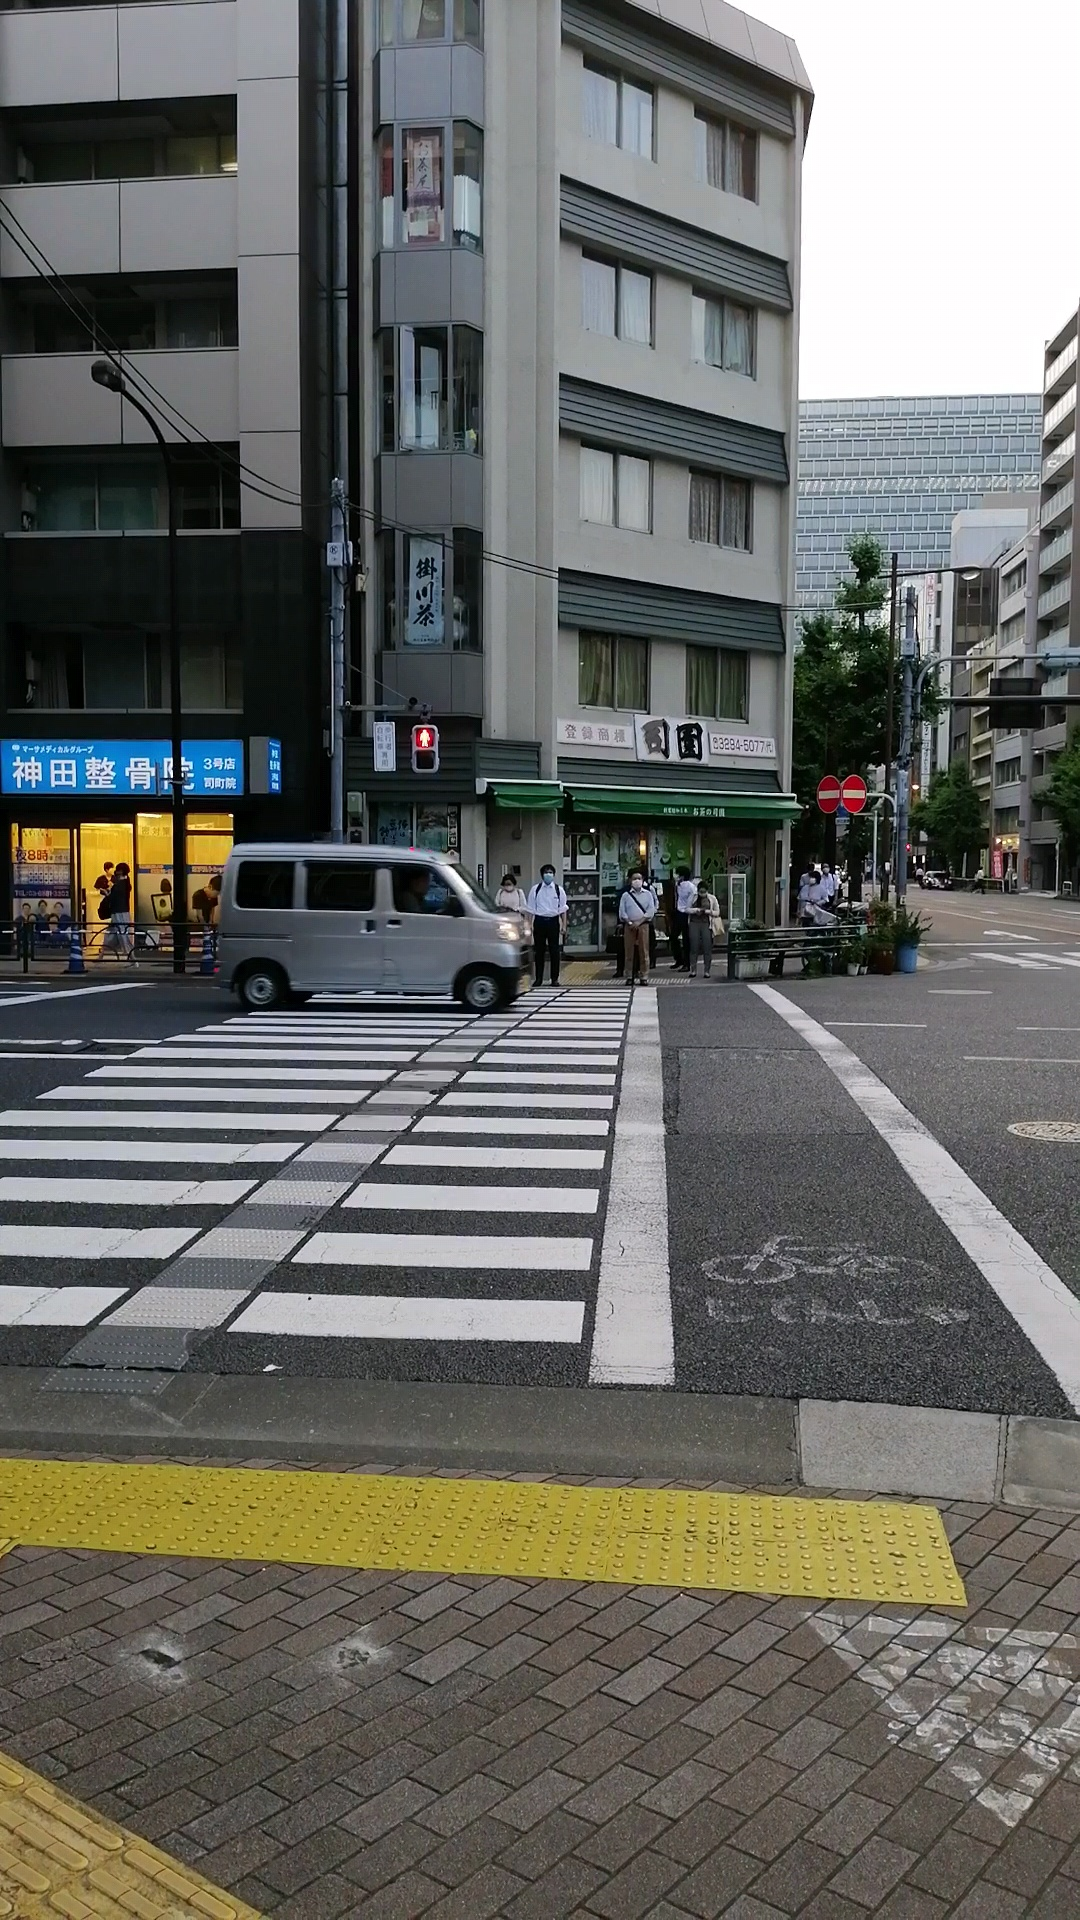red: (409, 723, 440, 774)
